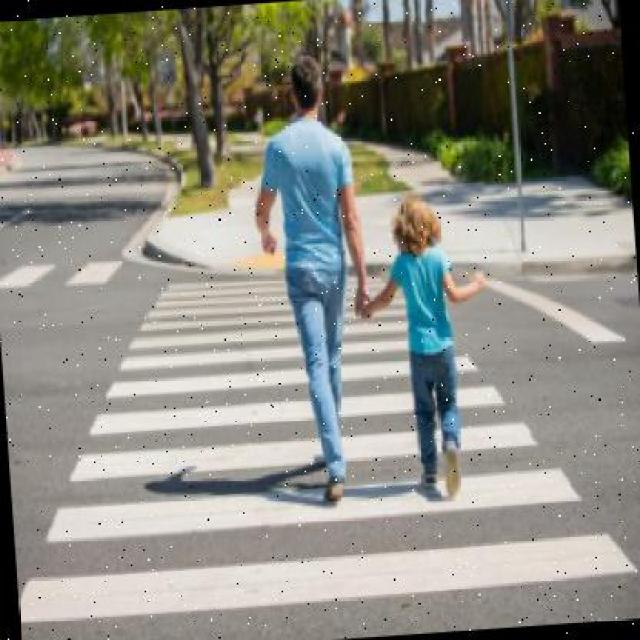obstacle: (254, 52, 380, 508), (356, 195, 501, 502)
